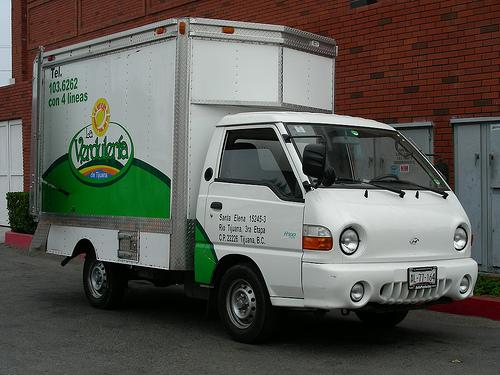truck: (27, 17, 479, 344)
